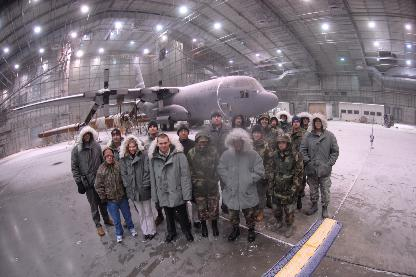Be200: (6, 63, 278, 130)
